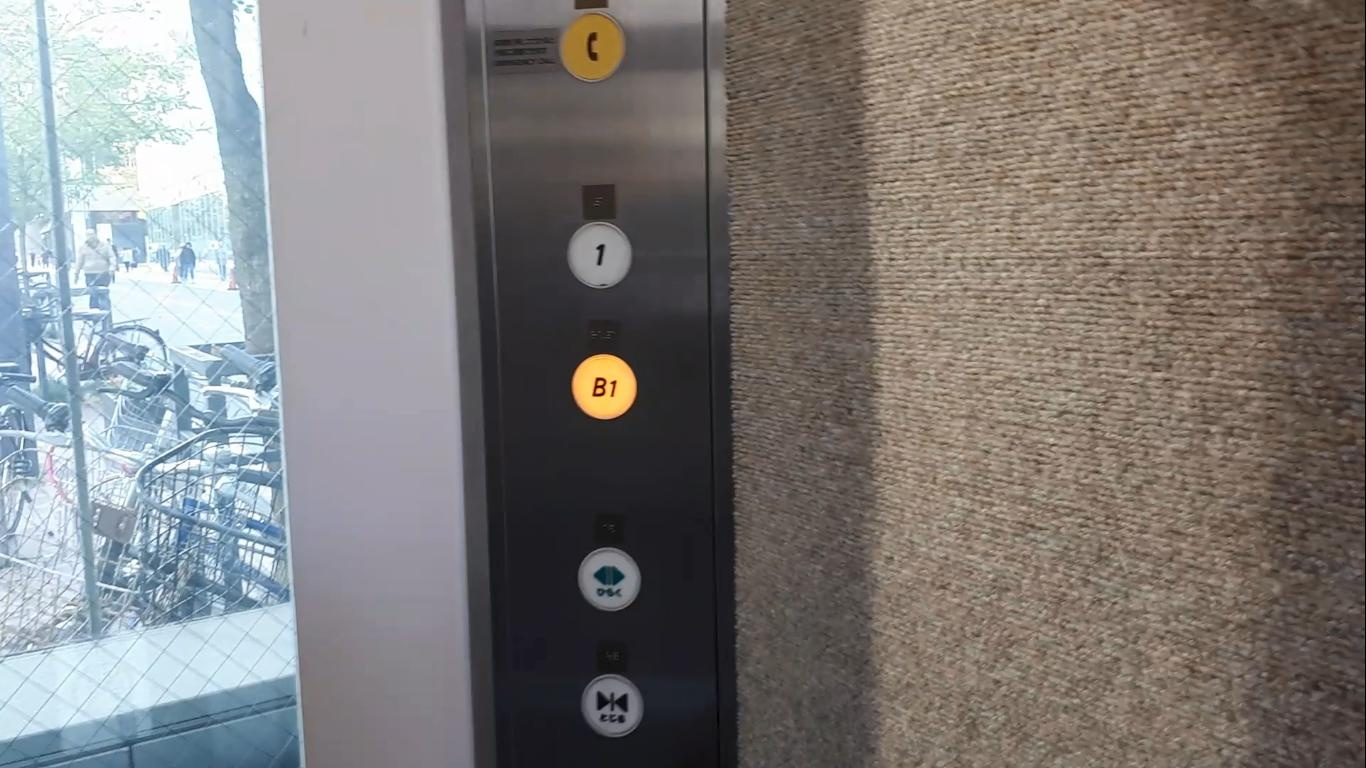1: (563, 215, 637, 292)
B1: (568, 347, 642, 424)
call: (552, 6, 633, 85)
close: (575, 665, 649, 742)
open: (571, 541, 645, 618)
